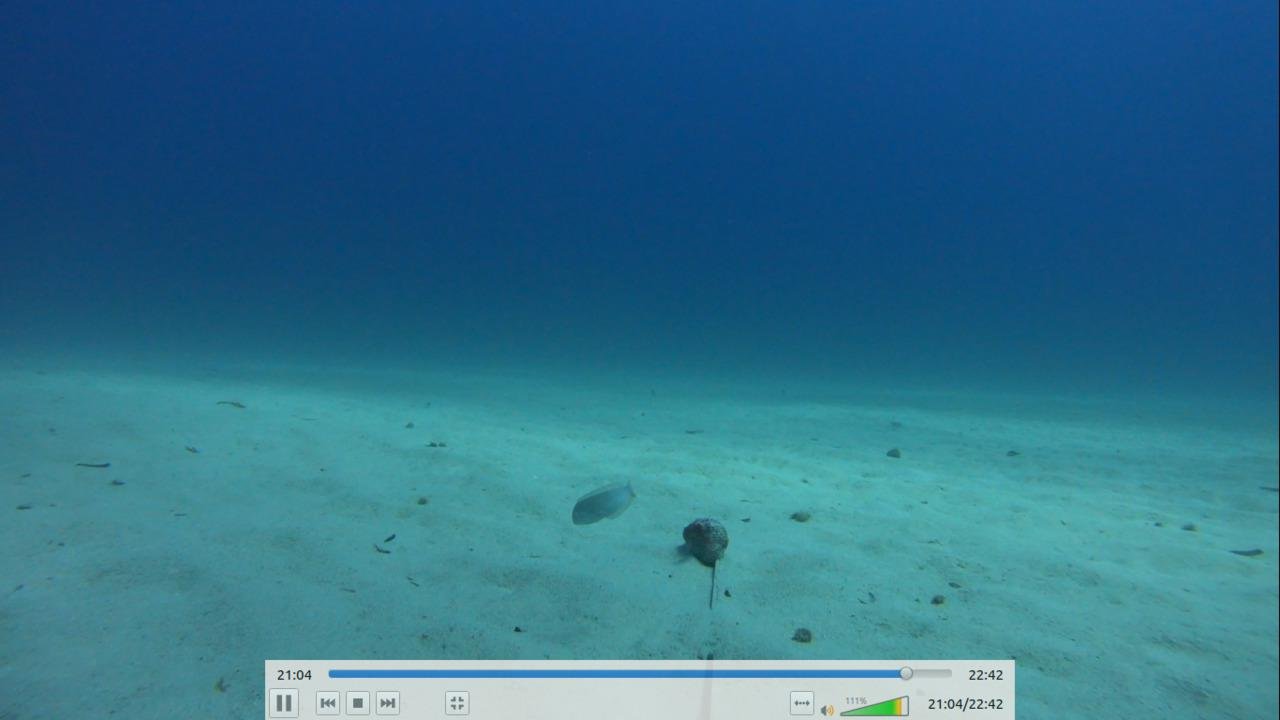raor: (562, 473, 638, 528)
